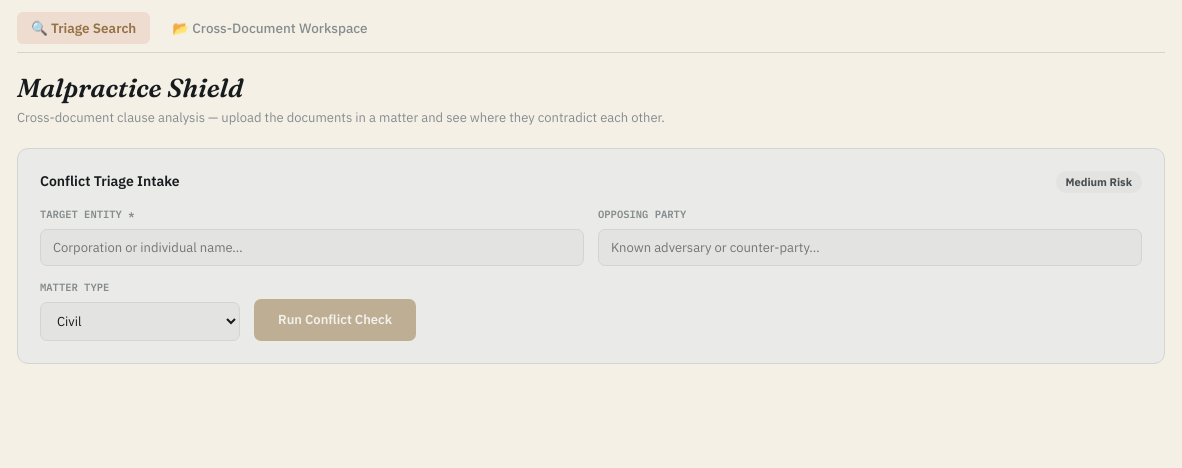
Scenario: Conflict Engine (Malpractice Shield) › discards stale session with mismatched/missing version string and starts with clean empty state
Expected: the text "Conflict Triage Intake" is shown, x1=40 y1=171 x2=180 y2=192
// Clicking Cross-Document Workspace shows clean dropzone without the old stale file
Click the button "📂 Cross-Document Workspace" at (270, 28), box x1=158 y1=12 x2=382 y2=44
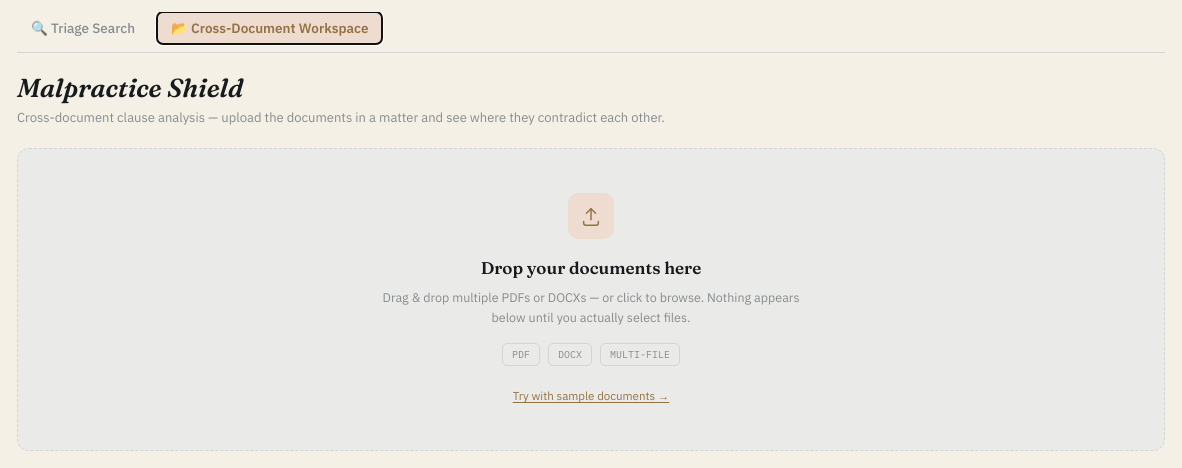
Expected: the text "Drop your documents here" is shown, x1=481 y1=257 x2=701 y2=278
